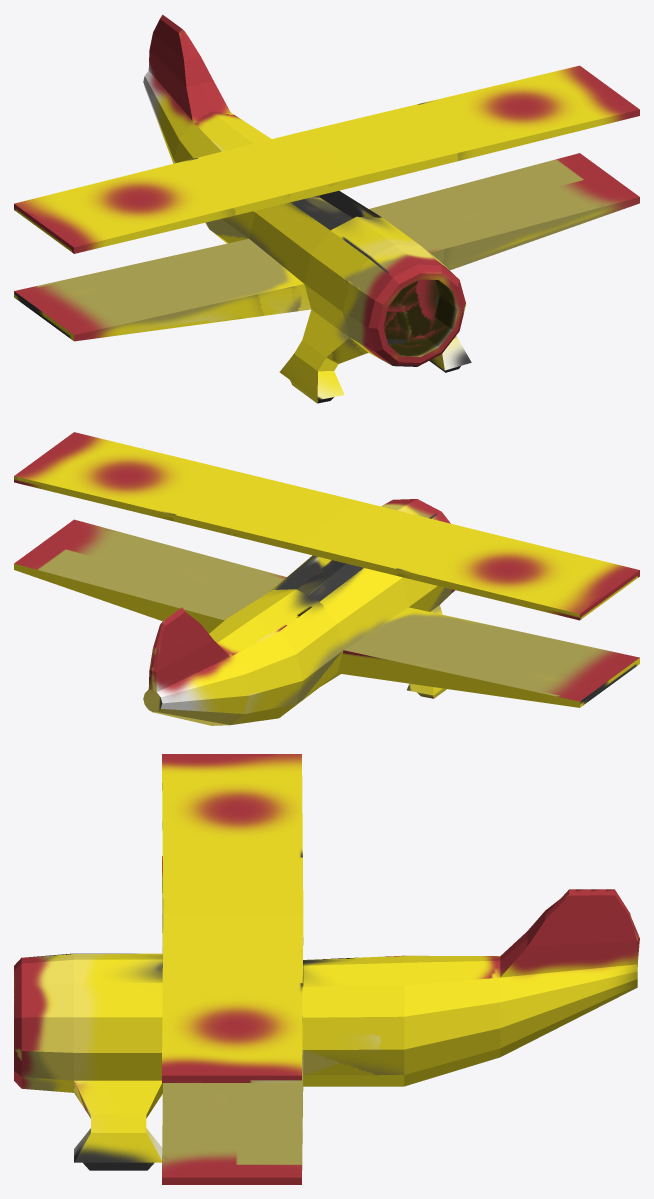
File: biplane.glb
3 renders of one model, top to bottom at view 1: azimuth 30°, elevation 25°; view 2: azimuth 150°, elevation 25°; view 3: azimuth 270°, elevation 25°, orthographic. The views are drawn at different scales.
Parts seen in each view (by area): view 1: BiPlane; view 2: BiPlane; view 3: BiPlane.
Part boxes in pixels (<box>): BiPlane: <box>14,14,639,403</box>; BiPlane: <box>14,432,639,725</box>; BiPlane: <box>14,754,639,1184</box>.
Bounding box in the file's own units: 10.87 × 3.81 × 8.94.
Materials: 1 (1 with a texture image).
